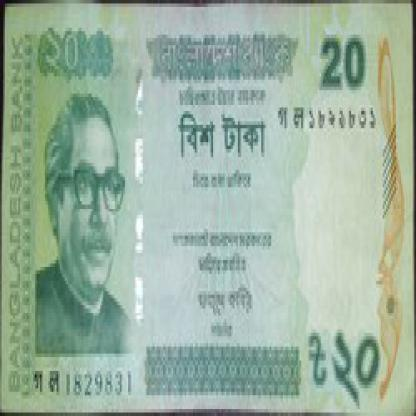Twenty: (308, 315, 388, 406), (40, 24, 131, 90), (166, 111, 274, 166), (310, 24, 380, 94)
